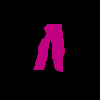pantaloni: (33, 23, 64, 72)
